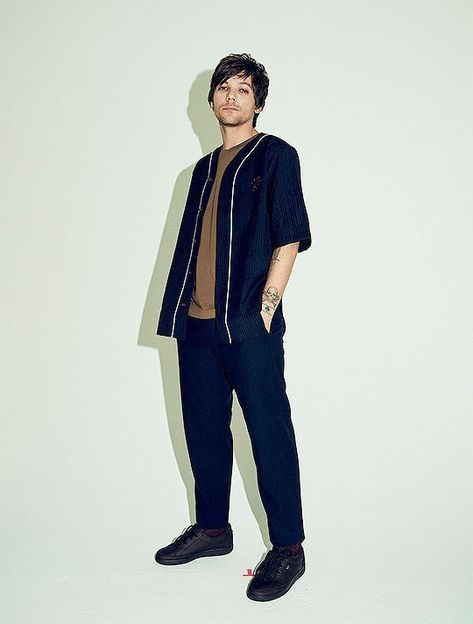person: (146, 42, 321, 612)
